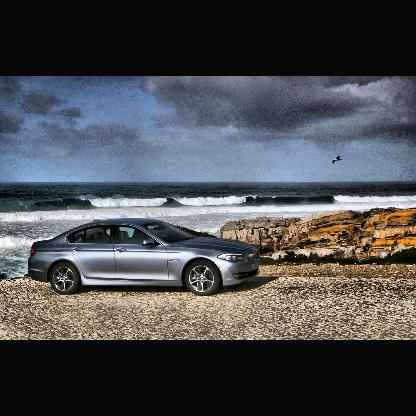BMW ActiveHybrid 5 Sedan 2012: (28, 218, 262, 297)
